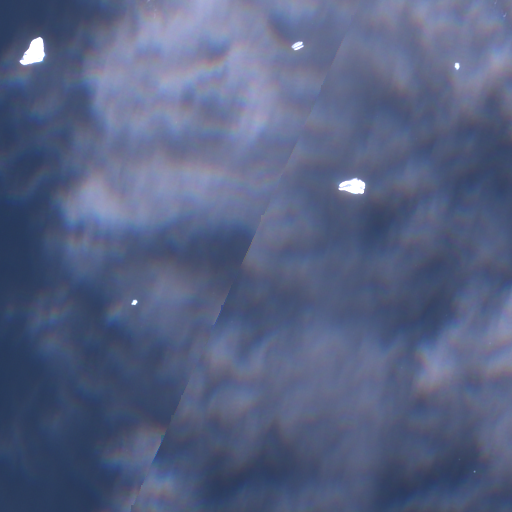Iceberg: (19, 37, 44, 64), (338, 178, 365, 193), (291, 41, 303, 50), (131, 299, 137, 305), (454, 62, 459, 69), (458, 458, 460, 460), (473, 470, 475, 472)
